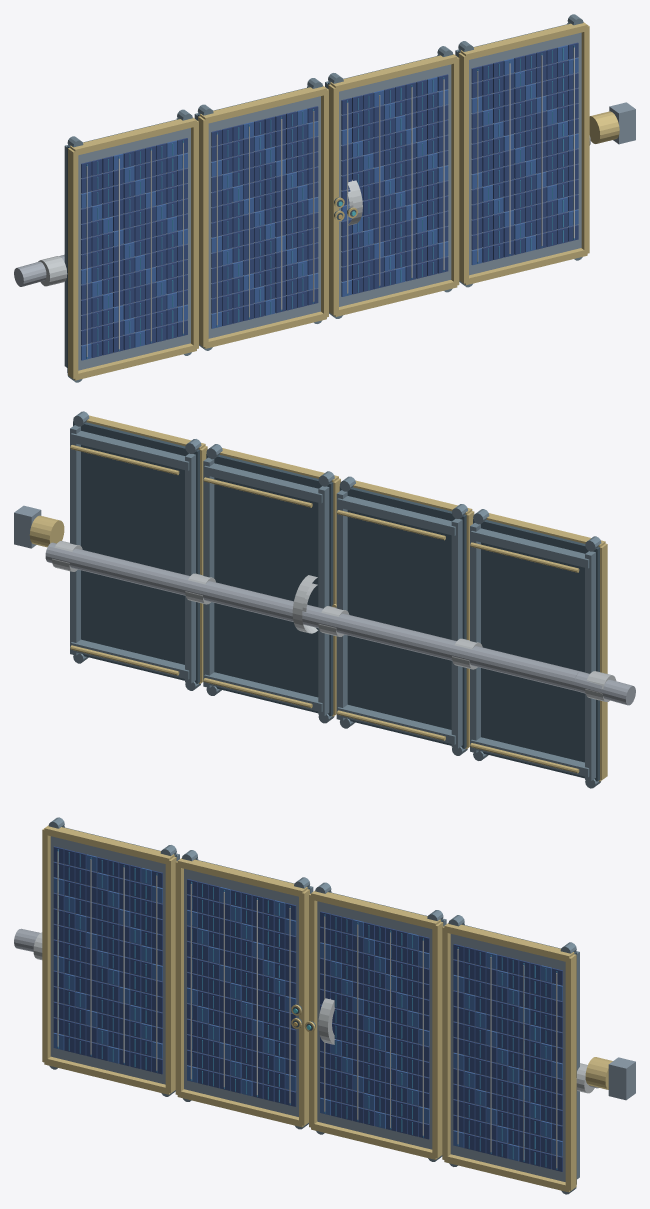
Rendered from 06_L83_DeployableSolarWingStarboard.glb.
3 views of the same model, one above another, from view 1: azimuth 30°, elevation 25°; view 2: azimuth 150°, elevation 25°; view 3: azimuth 330°, elevation 25° (orthographic). The views are drawn at different scales.
Parts seen in each view (by area): view 1: DeployableSolarWingStarboard_Node_0281, DeployableSolarWingStarboard_Node_0841, DeployableSolarWingStarboard_Node_0561, DeployableSolarWingStarboard_Node_0001, DeployableSolarWingStarboard_Node_0004, DeployableSolarWingStarboard_Node_0844, DeployableSolarWingStarboard_Node_0284, DeployableSolarWingStarboard_Node_0564, DeployableSolarWingStarboard_Node_0565, DeployableSolarWingStarboard_Node_0845, DeployableSolarWingStarboard_Node_0005, DeployableSolarWingStarboard_Node_0285 (+13 smaller); view 2: DeployableSolarWingStarboard_Node_0280, DeployableSolarWingStarboard_Node_0000, DeployableSolarWingStarboard_Node_0840, DeployableSolarWingStarboard_Node_0560, DeployableSolarWingStarboard_Node_1121, DeployableSolarWingStarboard_Node_0836, DeployableSolarWingStarboard_Node_0556, DeployableSolarWingStarboard_Node_0557, DeployableSolarWingStarboard_Node_1116, DeployableSolarWingStarboard_Node_0276, DeployableSolarWingStarboard_Node_0837, DeployableSolarWingStarboard_Node_1117 (+29 smaller); view 3: DeployableSolarWingStarboard_Node_0841, DeployableSolarWingStarboard_Node_0001, DeployableSolarWingStarboard_Node_0561, DeployableSolarWingStarboard_Node_0281, DeployableSolarWingStarboard_Node_0845, DeployableSolarWingStarboard_Node_0565, DeployableSolarWingStarboard_Node_0005, DeployableSolarWingStarboard_Node_0285, DeployableSolarWingStarboard_Node_0284, DeployableSolarWingStarboard_Node_0004, DeployableSolarWingStarboard_Node_0844, DeployableSolarWingStarboard_Node_0564 (+12 smaller).
Boxes of the visible parts, <box> form: DeployableSolarWingStarboard_Node_0281: <box>208,96,320,338</box>; DeployableSolarWingStarboard_Node_0841: <box>469,32,581,275</box>; DeployableSolarWingStarboard_Node_0561: <box>339,64,451,306</box>; DeployableSolarWingStarboard_Node_0001: <box>78,128,190,370</box>; DeployableSolarWingStarboard_Node_0004: <box>68,148,78,378</box>; DeployableSolarWingStarboard_Node_0844: <box>458,52,468,283</box>; DeployableSolarWingStarboard_Node_0284: <box>198,116,208,347</box>; DeployableSolarWingStarboard_Node_0564: <box>328,84,338,315</box>; DeployableSolarWingStarboard_Node_0565: <box>451,57,459,286</box>; DeployableSolarWingStarboard_Node_0845: <box>581,25,589,254</box>; DeployableSolarWingStarboard_Node_0005: <box>191,120,198,349</box>; DeployableSolarWingStarboard_Node_0285: <box>321,88,328,317</box>; DeployableSolarWingStarboard_Node_0280: <box>339,486,466,748</box>; DeployableSolarWingStarboard_Node_0000: <box>473,519,599,781</box>; DeployableSolarWingStarboard_Node_0840: <box>73,421,199,683</box>; DeployableSolarWingStarboard_Node_0560: <box>206,454,333,716</box>; DeployableSolarWingStarboard_Node_1121: <box>45,542,580,690</box>; DeployableSolarWingStarboard_Node_0836: <box>318,486,329,715</box>; DeployableSolarWingStarboard_Node_0556: <box>451,518,462,748</box>; DeployableSolarWingStarboard_Node_0557: <box>336,490,347,720</box>; DeployableSolarWingStarboard_Node_1116: <box>185,453,195,683</box>; DeployableSolarWingStarboard_Node_0276: <box>585,551,595,780</box>; DeployableSolarWingStarboard_Node_0837: <box>203,457,214,687</box>; DeployableSolarWingStarboard_Node_1117: <box>70,425,80,655</box>; DeployableSolarWingStarboard_Node_0841: <box>450,934,565,1181</box>; DeployableSolarWingStarboard_Node_0001: <box>50,836,165,1084</box>; DeployableSolarWingStarboard_Node_0561: <box>317,901,432,1149</box>; DeployableSolarWingStarboard_Node_0281: <box>184,868,298,1116</box>; DeployableSolarWingStarboard_Node_0845: <box>565,954,576,1190</box>; DeployableSolarWingStarboard_Node_0565: <box>432,921,443,1158</box>; DeployableSolarWingStarboard_Node_0005: <box>165,856,176,1093</box>; DeployableSolarWingStarboard_Node_0285: <box>299,889,309,1125</box>; DeployableSolarWingStarboard_Node_0284: <box>175,861,183,1094</box>; DeployableSolarWingStarboard_Node_0004: <box>42,828,50,1062</box>; DeployableSolarWingStarboard_Node_0844: <box>442,926,450,1159</box>; DeployableSolarWingStarboard_Node_0564: <box>309,893,317,1127</box>.
Size of the model in its own units: 7.76 by 2.97 by 0.7495.
